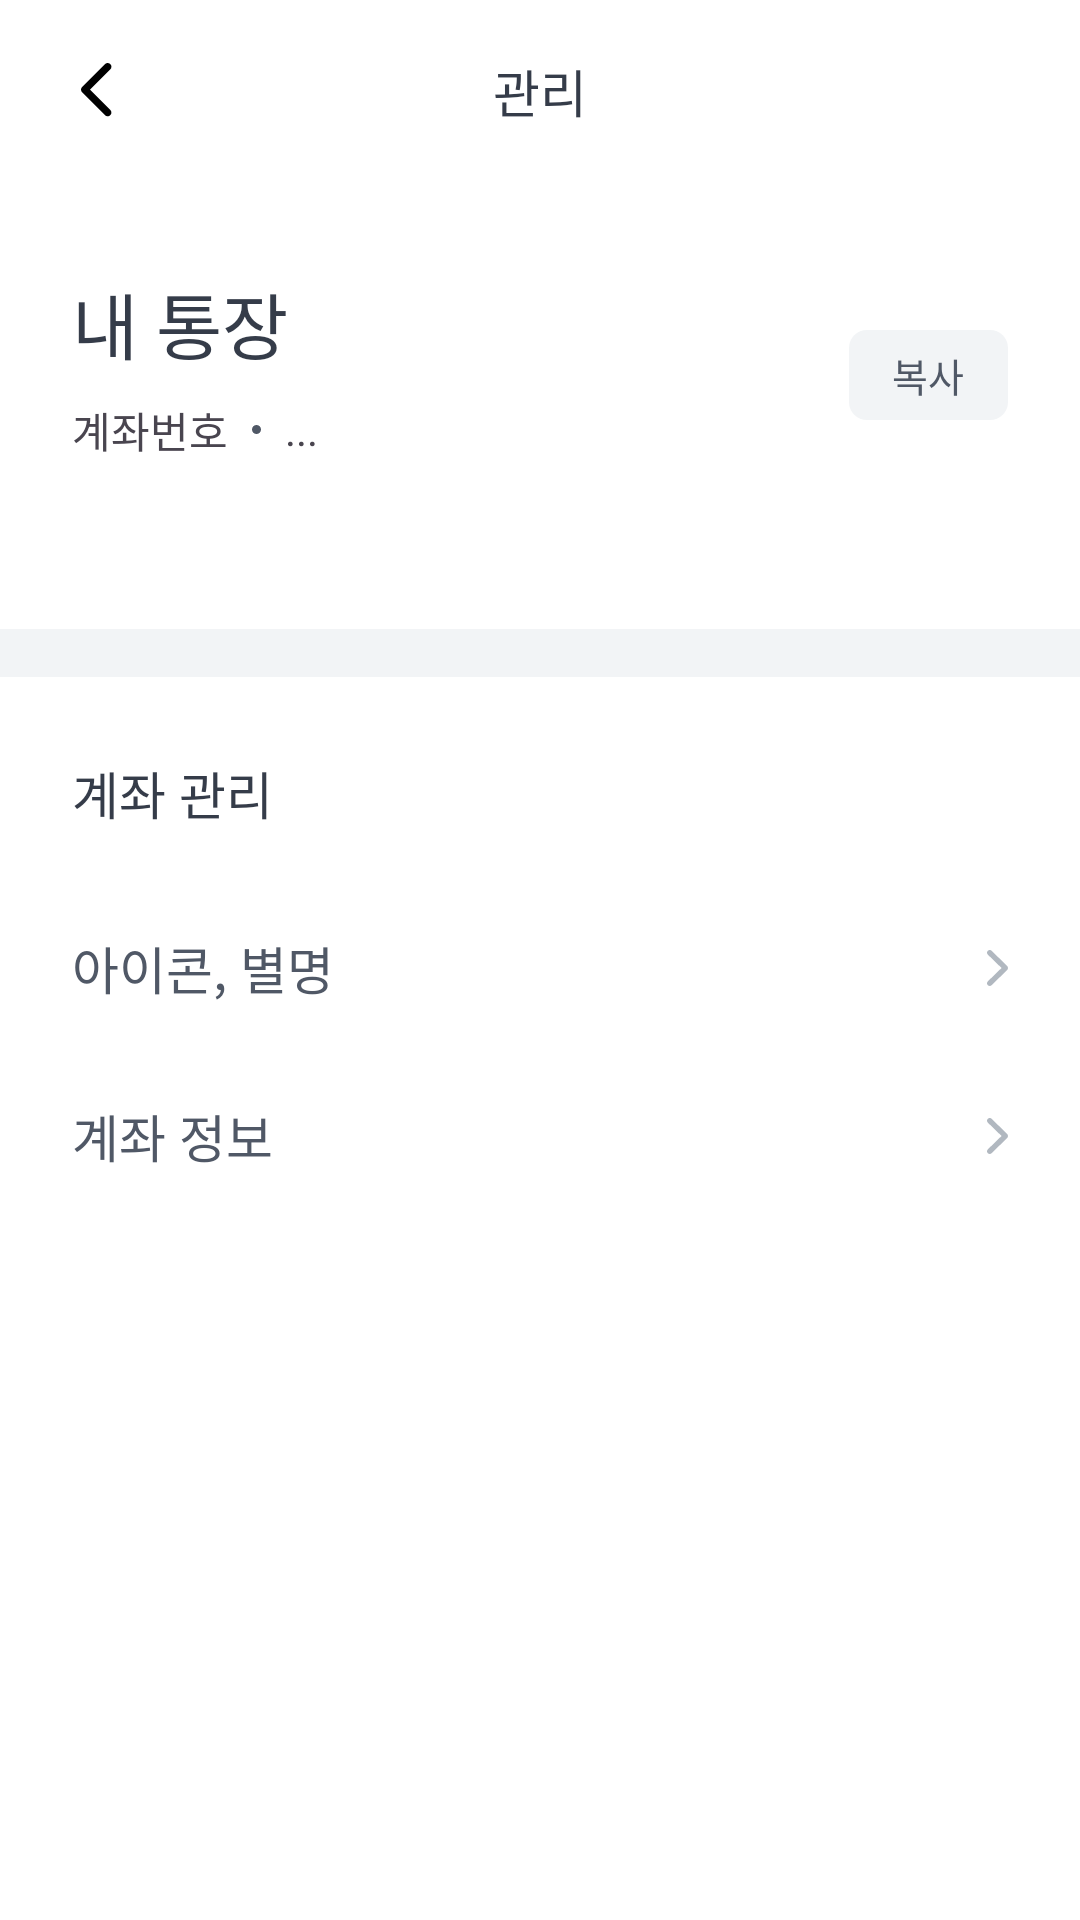

Where to tap for icons on this 1080 × 1920 app screen, as (x,y):
arrow back: (96,90)
